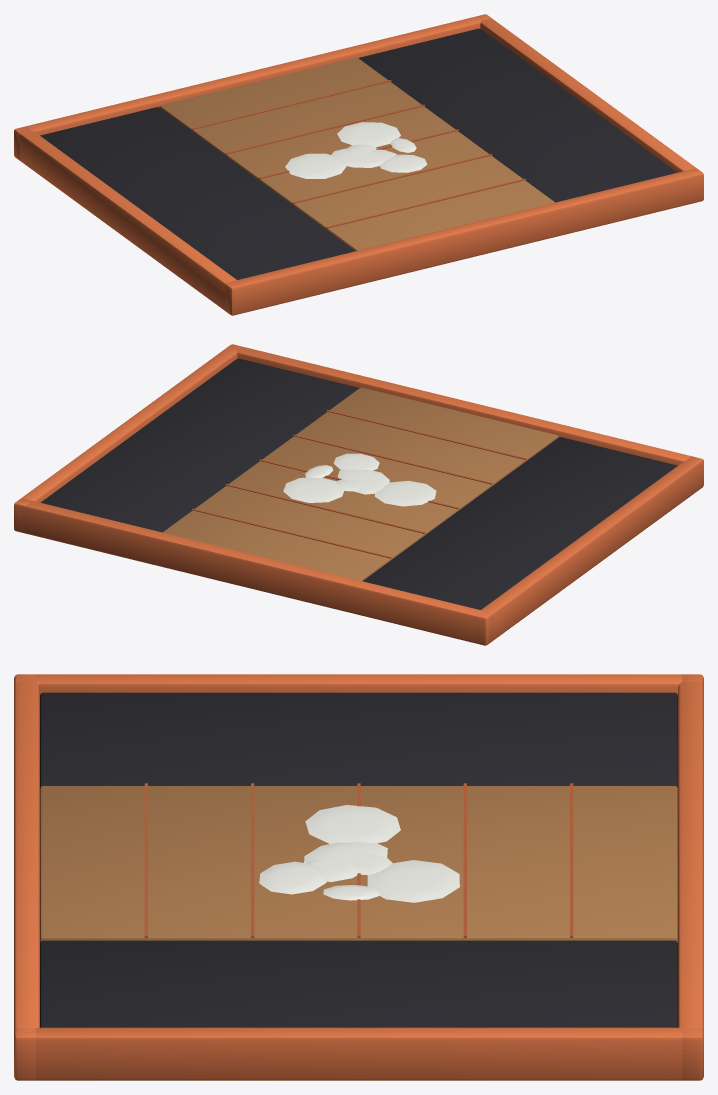
Rendered from LiftPlatform.fbx.
3 renders of one model, top to bottom at view 1: azimuth 30°, elevation 25°; view 2: azimuth 150°, elevation 25°; view 3: azimuth 270°, elevation 25°, orthographic. The views are drawn at different scales.
Parts seen in each view (by area): view 1: LiftPlatform_Rubber, LiftPlatform_Body, LiftPlatform_Wood, LiftPlatform_Chalk, LiftPlatform_Shade; view 2: LiftPlatform_Rubber, LiftPlatform_Body, LiftPlatform_Wood, LiftPlatform_Chalk, LiftPlatform_Shade; view 3: LiftPlatform_Rubber, LiftPlatform_Wood, LiftPlatform_Body, LiftPlatform_Chalk, LiftPlatform_Shade.
Boxes of the visible parts, x1,y1,x2,y2 form: LiftPlatform_Rubber: (40, 28, 676, 279); LiftPlatform_Body: (14, 14, 703, 315); LiftPlatform_Wood: (159, 57, 554, 251); LiftPlatform_Chalk: (285, 122, 427, 178); LiftPlatform_Shade: (191, 80, 526, 228); LiftPlatform_Rubber: (41, 358, 677, 609); LiftPlatform_Body: (14, 344, 703, 645); LiftPlatform_Wood: (163, 387, 558, 581); LiftPlatform_Chalk: (283, 453, 436, 506); LiftPlatform_Shade: (191, 410, 526, 558); LiftPlatform_Rubber: (40, 692, 677, 1027); LiftPlatform_Wood: (40, 786, 677, 942); LiftPlatform_Body: (14, 674, 703, 1080); LiftPlatform_Chalk: (259, 805, 459, 902); LiftPlatform_Shade: (144, 783, 573, 937).
Bounding box in the file's own units: 1000 × 58 × 800.
